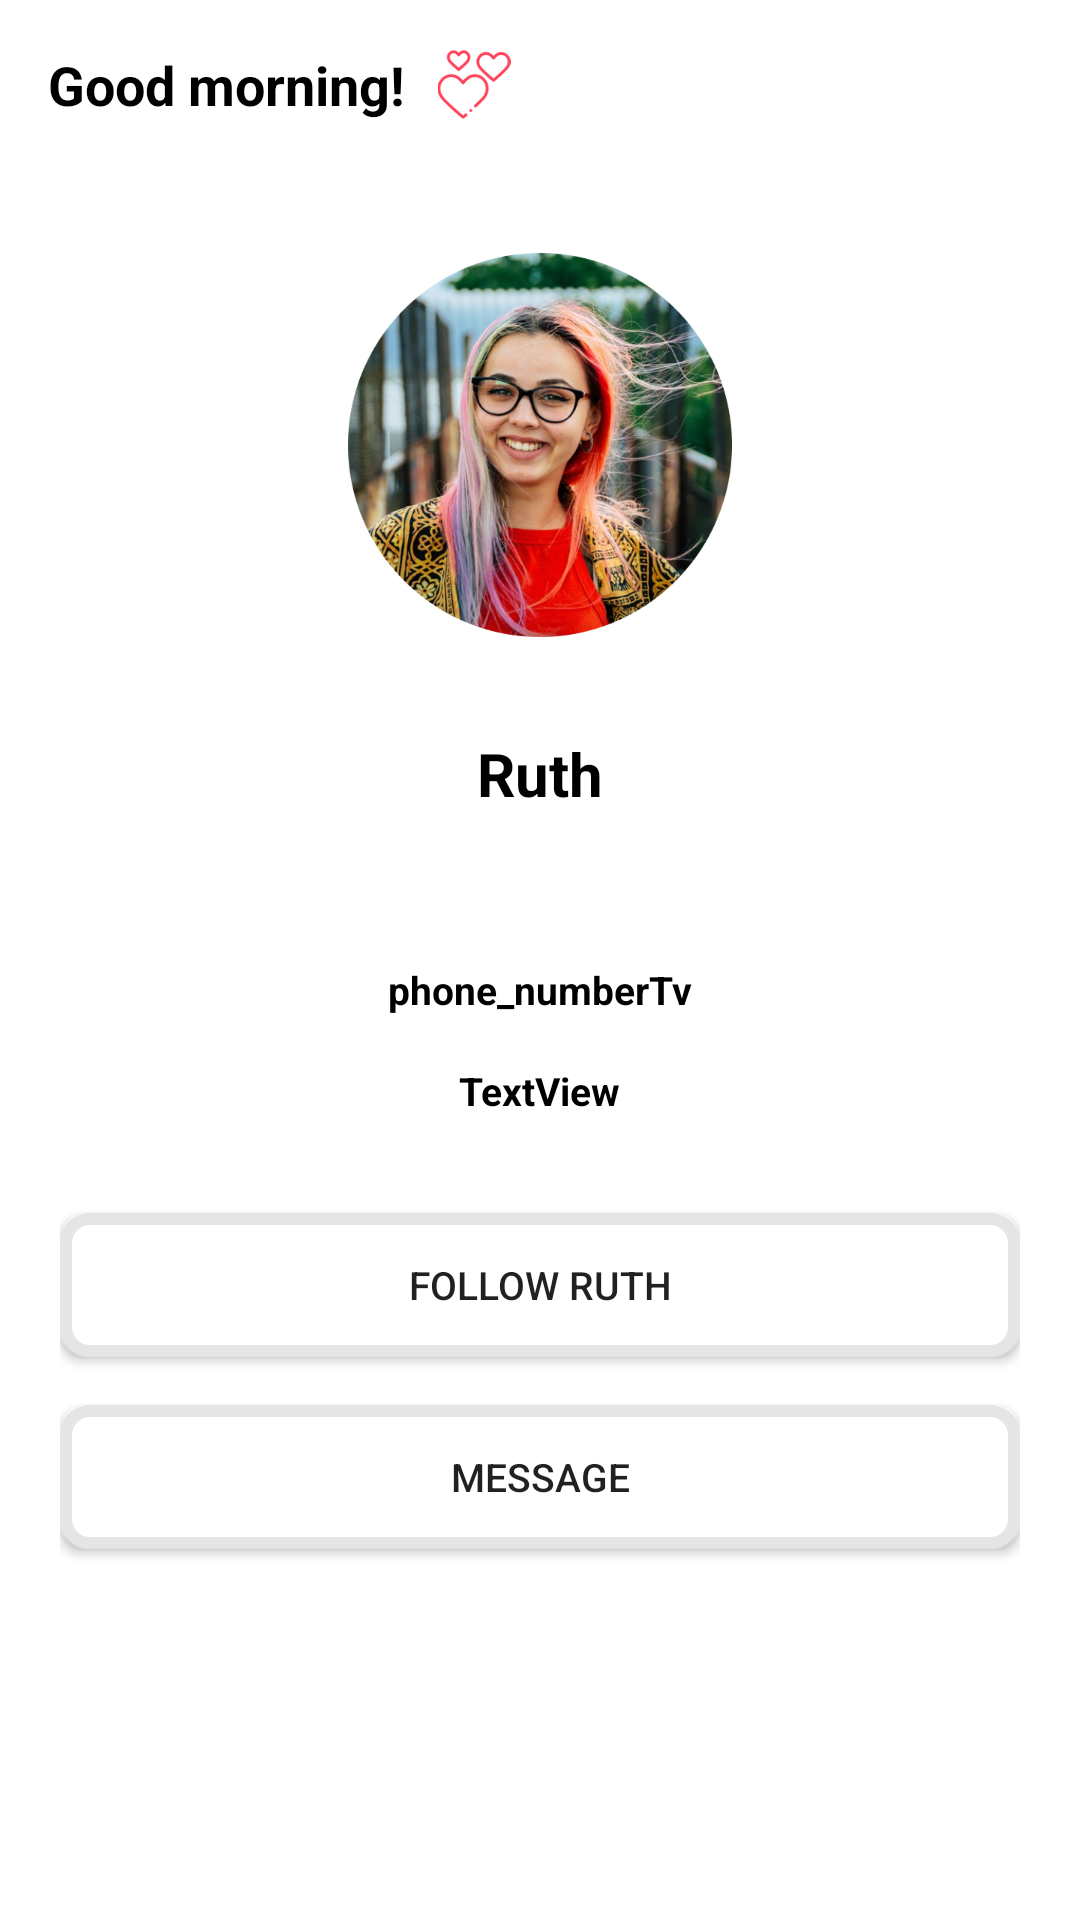

Icon bounding boxes for this 1080x1920 phone screenshot, format (x1, y1, x2, y2):
hearts: (438, 50, 511, 119)
